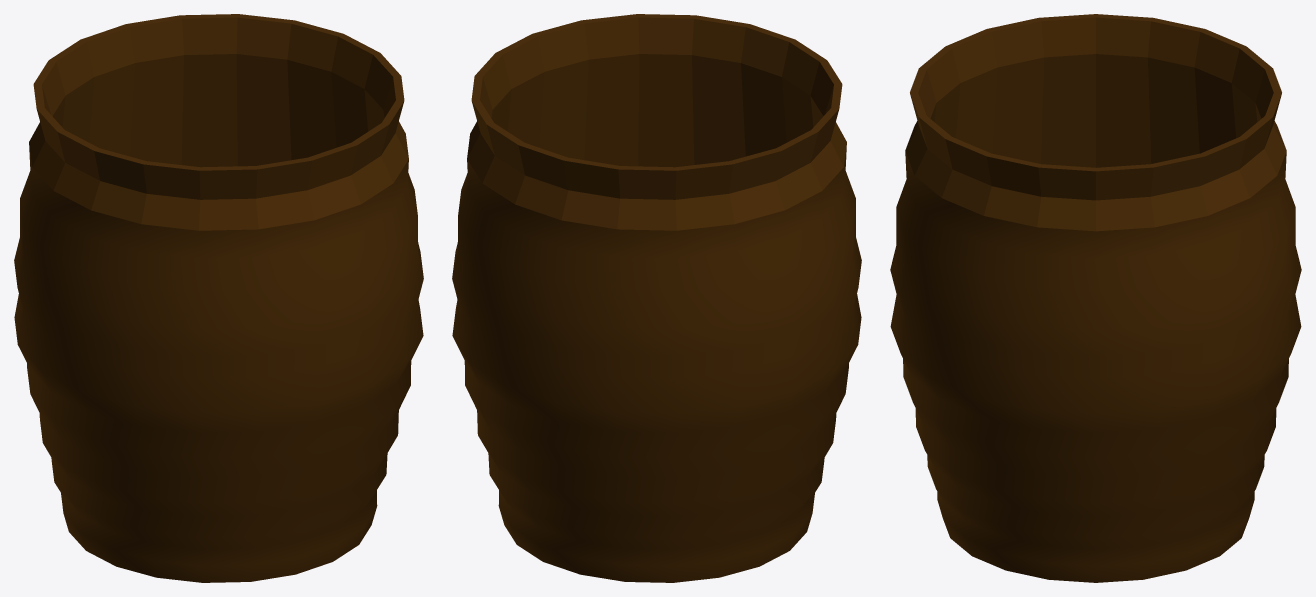
The model's file is TT_Indian_teacup.fbx.
3 views of the same model, side by side, from view 1: azimuth 30°, elevation 25°; view 2: azimuth 150°, elevation 25°; view 3: azimuth 270°, elevation 25° (orthographic).
Parts seen in each view (by area): view 1: tea_Cup_Indian1; view 2: tea_Cup_Indian1; view 3: tea_Cup_Indian1.
Boxes of the visible parts, x1,y1,x2,y2 form: tea_Cup_Indian1: (14,14,423,582); tea_Cup_Indian1: (452,14,861,582); tea_Cup_Indian1: (890,14,1301,582).
Size of the model in its own units: 8.63 by 9.85 by 8.63.
